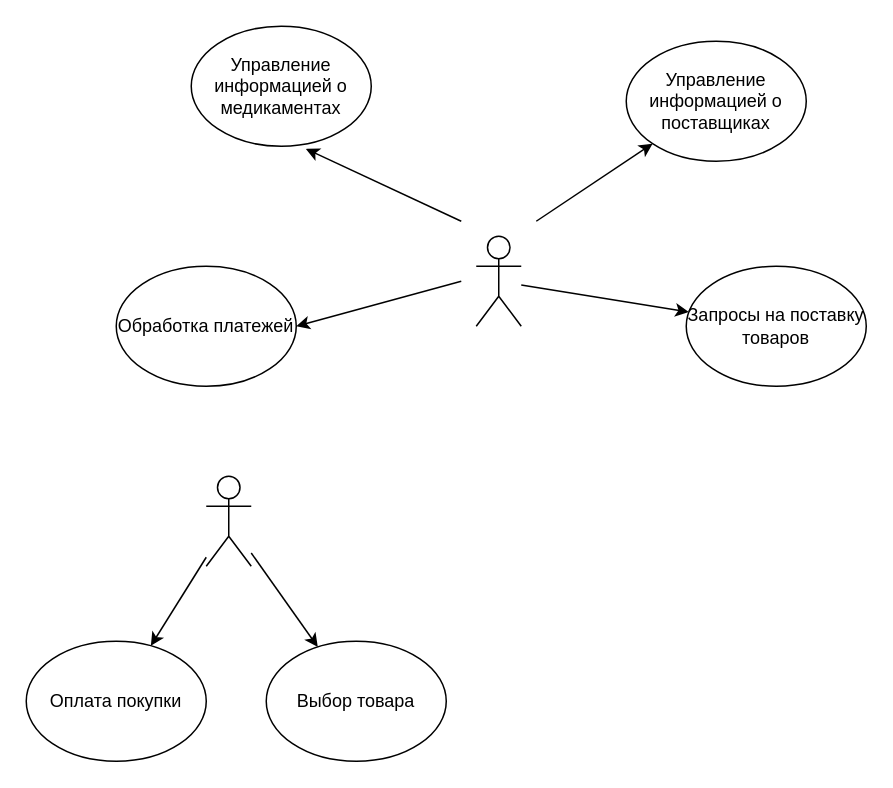
Image size: 893x788. Some labels were removed from this diagram. The shapes that lost their labels are listed below. From the top down, each one's centre as x and y in pixels, then its label:
At [498,280]: "Apteka".
At [228,520]: "klient".
